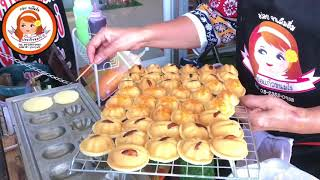kanomkai: (211, 132, 251, 166), (107, 143, 150, 173), (176, 136, 217, 167), (77, 130, 116, 159)
